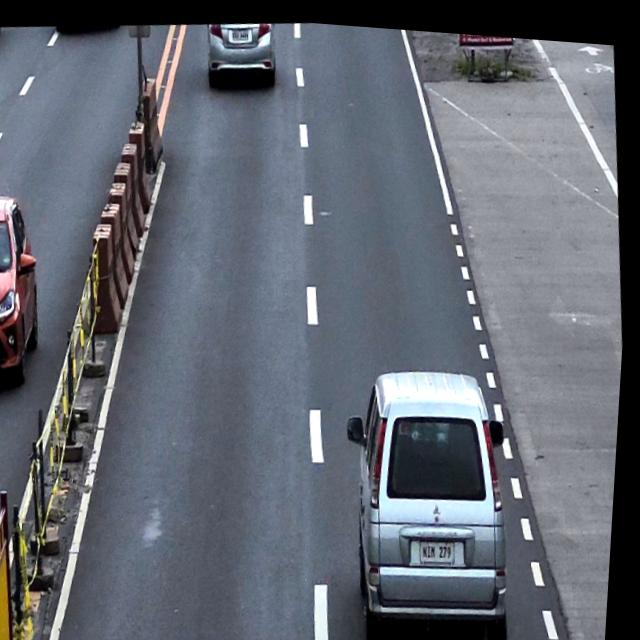Car: (334, 352, 534, 640), (0, 189, 55, 385), (202, 14, 282, 93)
License-Plate: (423, 527, 463, 561), (230, 23, 251, 39)
